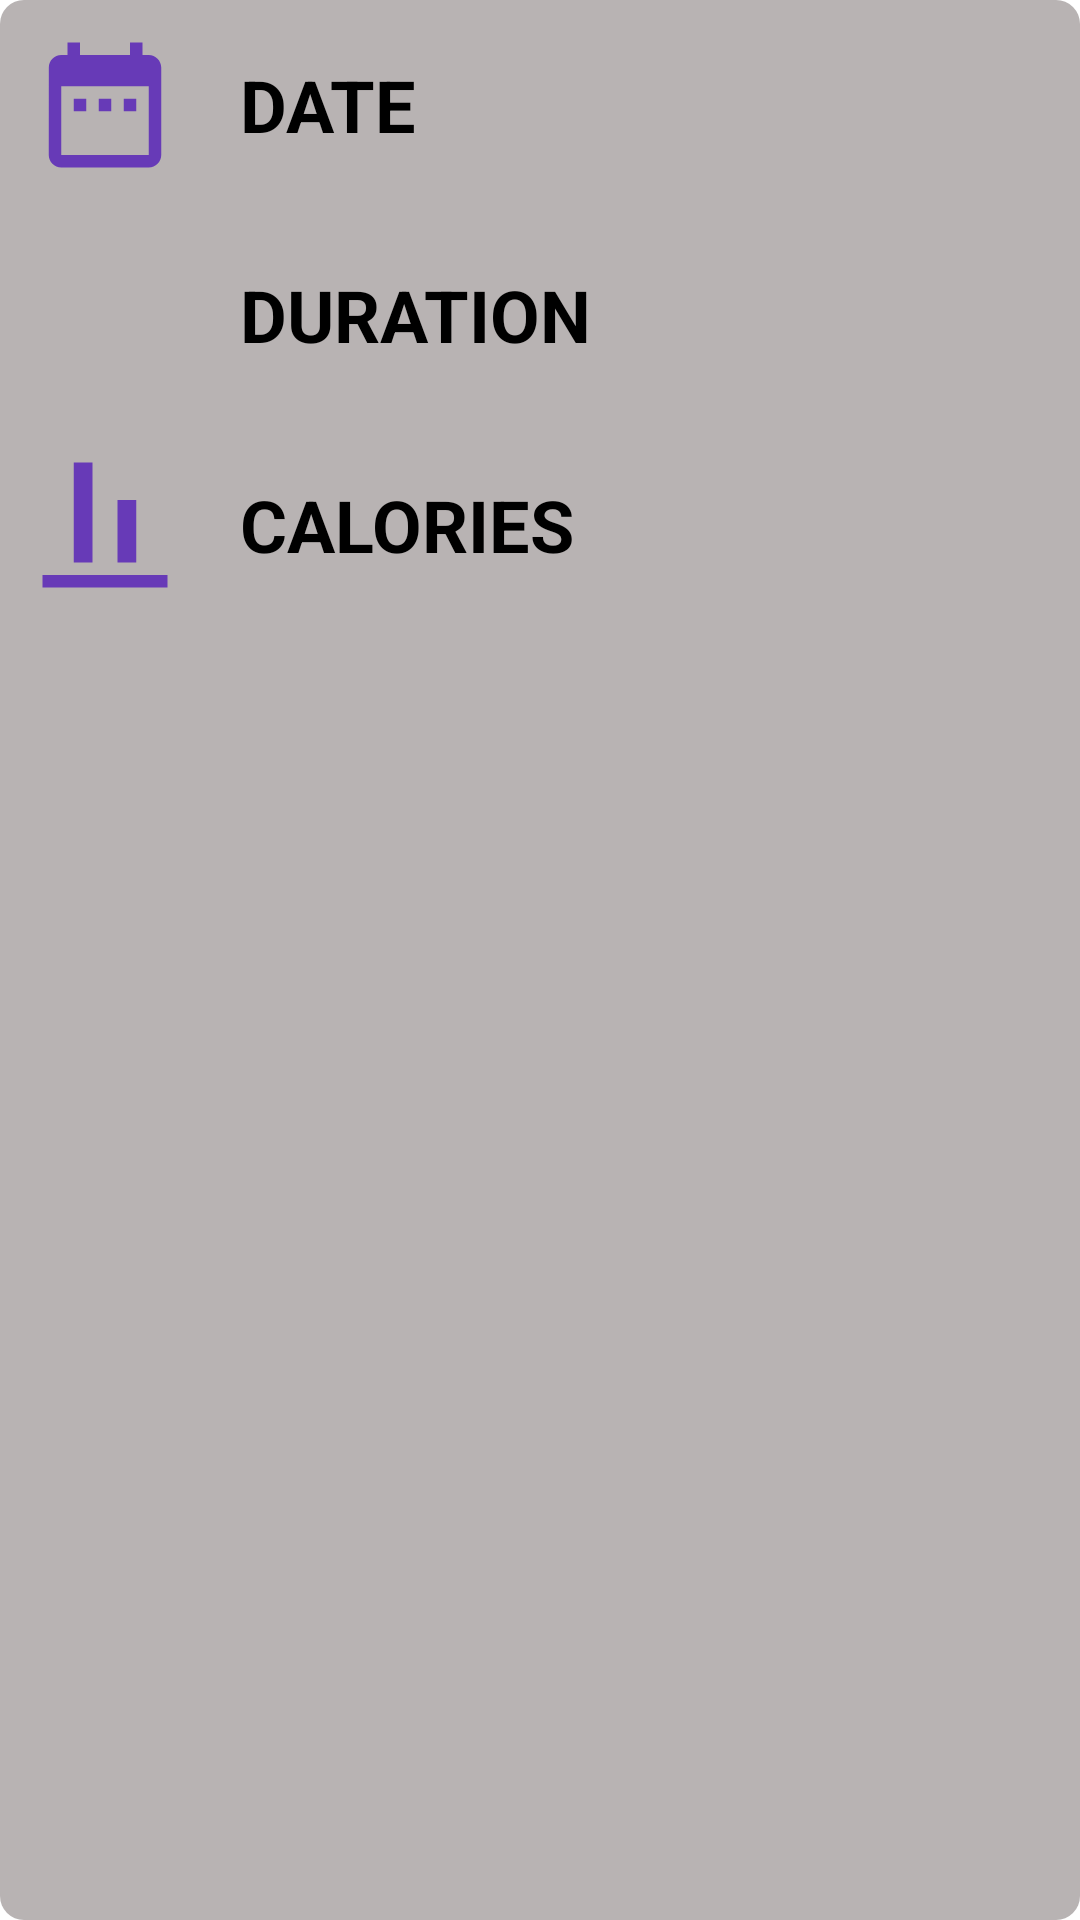

Named icons in this screenshot (1080px x 1920px) and their centers, [x,y]:
align vertical bottom: [105,525]
